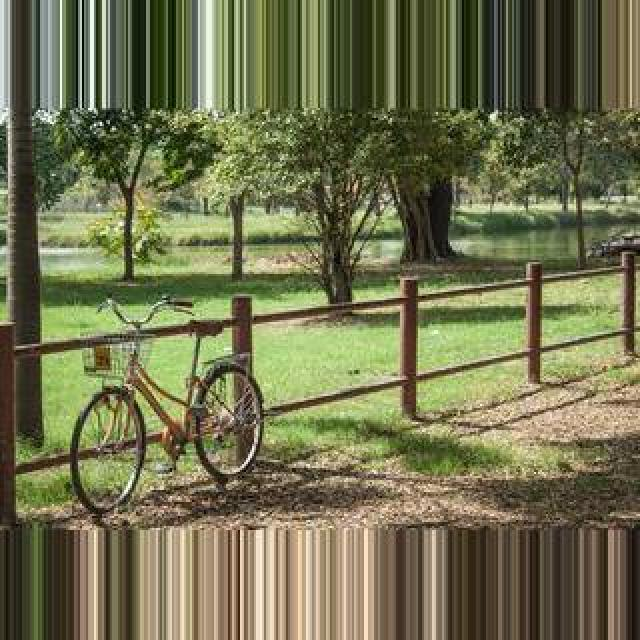Person: (68, 293, 266, 519)
